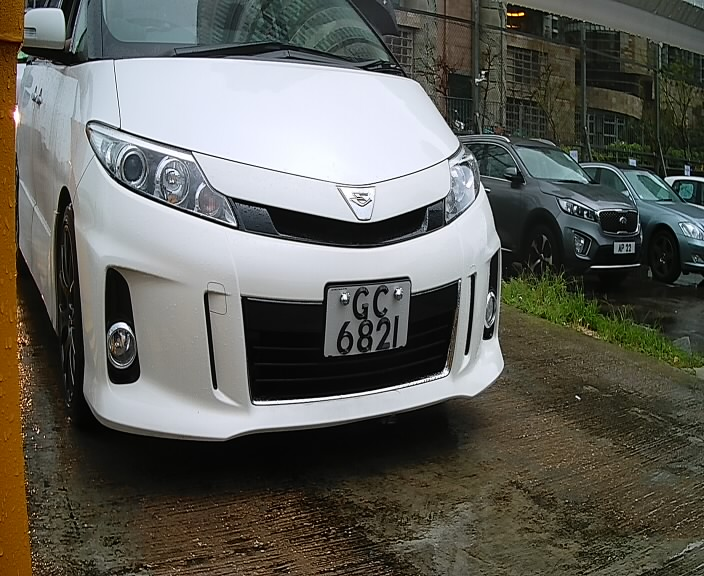Car: (23, 3, 521, 474)
License Plate: (315, 267, 421, 370)
